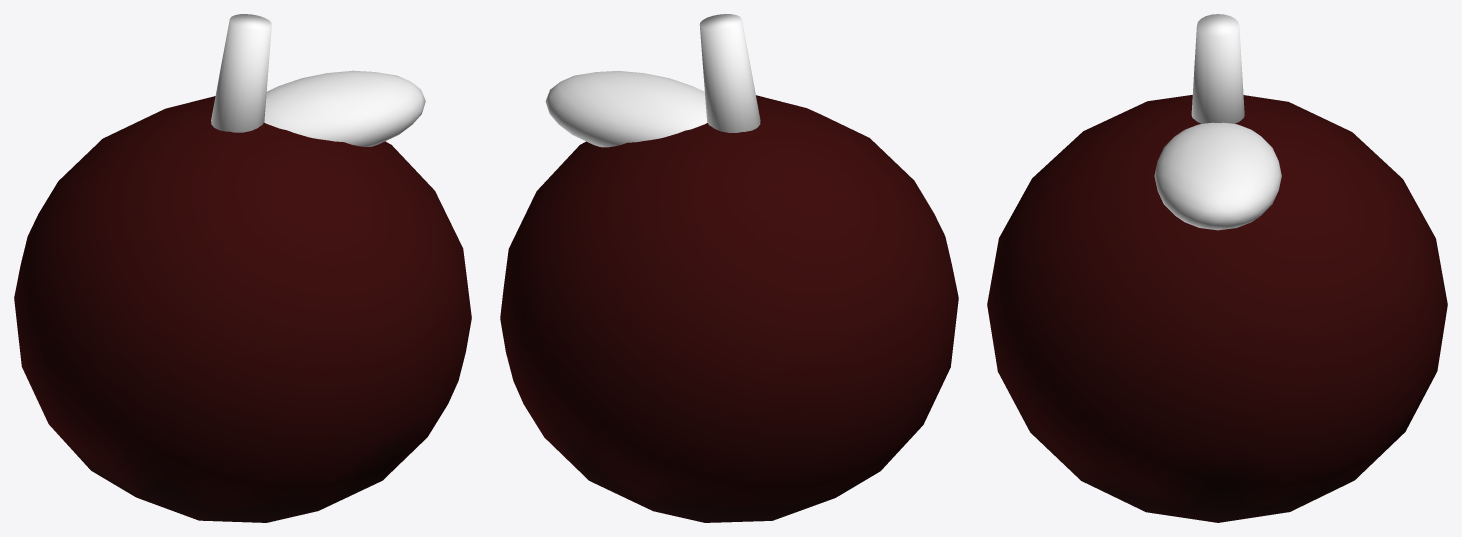
File: red-apple.obj
The picture shows the model from 3 angles, left to right: view 1: azimuth 30°, elevation 25°; view 2: azimuth 150°, elevation 25°; view 3: azimuth 270°, elevation 25°; orthographic projection.
Visible parts, largest first — view 1: red-apple; view 2: red-apple; view 3: red-apple.
Boxes of the visible parts, box(x1,y1,x2,y2) form: red-apple: box(14, 14, 471, 522); red-apple: box(500, 14, 958, 522); red-apple: box(987, 14, 1447, 522).
Bounding box in the file's own units: 0.1734 × 0.1997 × 0.1735.
